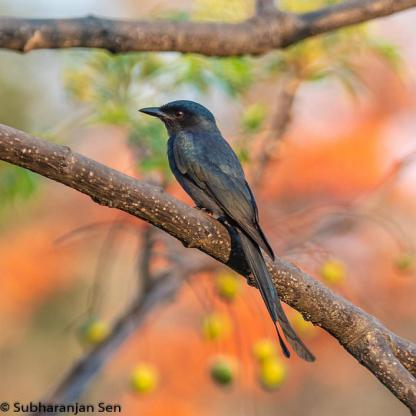Burung: (138, 101, 316, 364)
